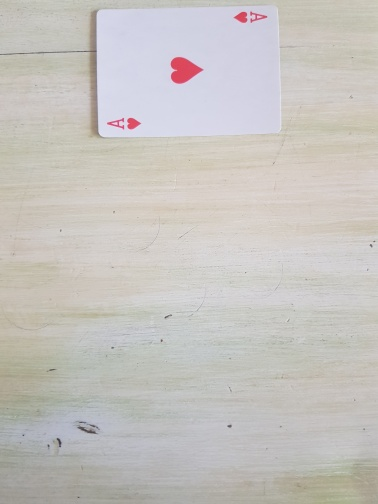ace: (95, 4, 283, 139)
